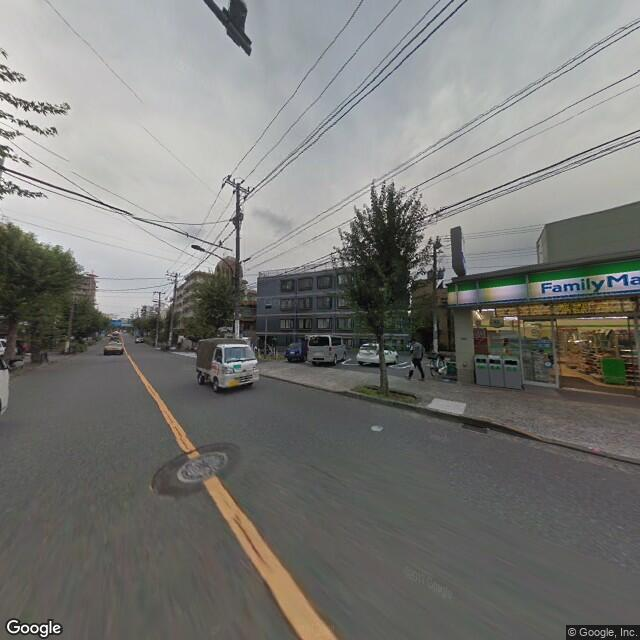family_mart: (447, 258, 639, 312)
